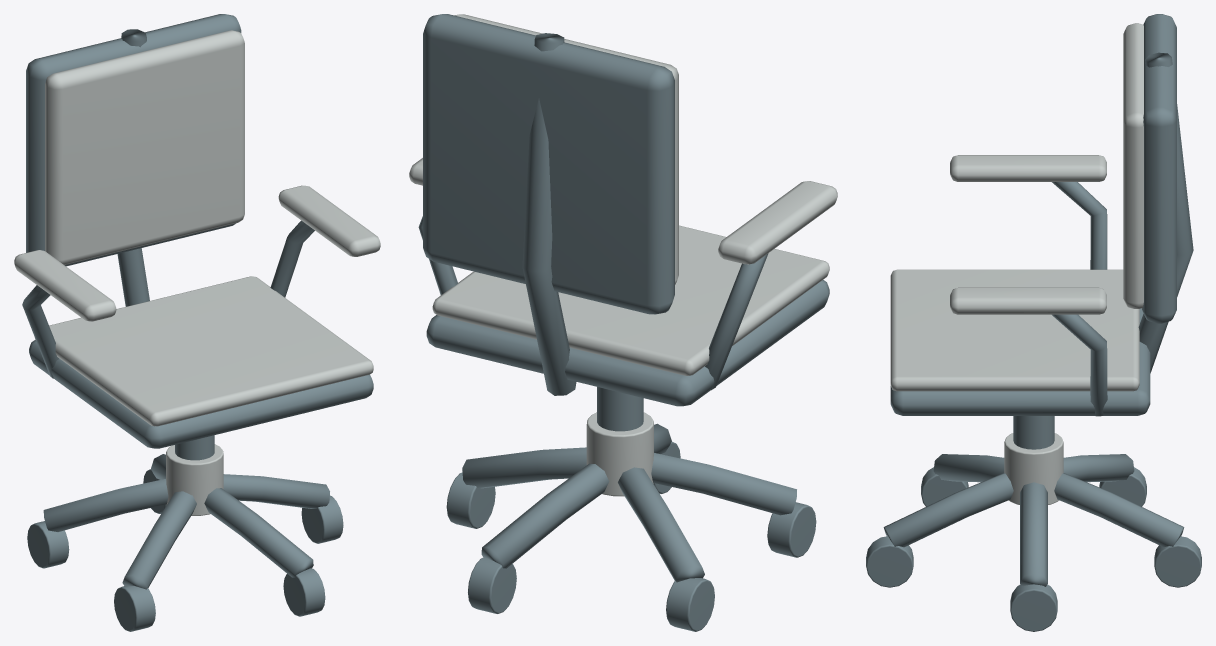
The model's file is office-chair.glb.
3 views of the same model, side by side, from view 1: azimuth 30°, elevation 25°; view 2: azimuth 150°, elevation 25°; view 3: azimuth 270°, elevation 25° (orthographic). The views are drawn at different scales.
Parts seen in each view (by area): view 1: back_cushion, seat_cushion, seat_shell, back_shell, base_spoke_1, armrest_1, armrest_-1, base_spoke_3, base_spoke_2, base_spoke_0, collar, back_spine (+7 smaller); view 2: back_shell, seat_cushion, seat_shell, back_spine, base_spoke_4, armrest_-1, base_spoke_2, base_spoke_3, base_spoke_0, collar, armrest_support_-1, caster_3 (+6 smaller); view 3: seat_cushion, back_shell, seat_shell, back_cushion, armrest_1, armrest_-1, base_spoke_1, base_spoke_4, back_spine, base_spoke_0, collar, armrest_support_1 (+9 smaller).
Boxes of the visible parts, left/top/right/bottom form: back_cushion: left=45, top=30, right=244, bottom=264; seat_cushion: left=35, top=276, right=373, bottom=426; seat_shell: left=29, top=340, right=373, bottom=448; back_shell: left=26, top=14, right=241, bottom=266; base_spoke_1: left=204, top=488, right=313, bottom=577; armrest_1: left=278, top=185, right=380, bottom=256; armrest_-1: left=14, top=250, right=116, bottom=321; base_spoke_3: left=43, top=478, right=168, bottom=531; base_spoke_2: left=122, top=491, right=196, bottom=589; base_spoke_0: left=223, top=474, right=329, bottom=508; collar: left=166, top=444, right=223, bottom=515; back_spine: left=117, top=29, right=149, bottom=306; back_shell: left=423, top=14, right=674, bottom=314; seat_cushion: left=432, top=225, right=829, bottom=375; seat_shell: left=426, top=280, right=829, bottom=406; back_spine: left=522, top=33, right=576, bottom=395; base_spoke_4: left=481, top=463, right=609, bottom=568; armrest_-1: left=718, top=181, right=837, bottom=264; base_spoke_2: left=651, top=453, right=796, bottom=515; base_spoke_3: left=618, top=467, right=704, bottom=582; base_spoke_0: left=462, top=447, right=586, bottom=488; collar: left=586, top=412, right=653, bottom=496; armrest_support_-1: left=705, top=253, right=768, bottom=390; caster_3: left=666, top=578, right=714, bottom=631; seat_cushion: left=890, top=269, right=1139, bottom=391; back_shell: left=1142, top=14, right=1176, bottom=323; seat_shell: left=890, top=308, right=1150, bottom=415; back_cushion: left=1123, top=23, right=1143, bottom=308; armrest_1: left=950, top=287, right=1106, bottom=314; armrest_-1: left=950, top=155, right=1106, bottom=181; base_spoke_1: left=883, top=473, right=1013, bottom=547; base_spoke_4: left=1054, top=473, right=1184, bottom=547; back_spine: left=1138, top=52, right=1193, bottom=373; base_spoke_0: left=1020, top=482, right=1047, bottom=586; collar: left=1004, top=433, right=1063, bottom=504; armrest_support_1: left=1052, top=314, right=1107, bottom=416.
Size of the model in its own units: 0.65 by 1.03 by 0.6206.
